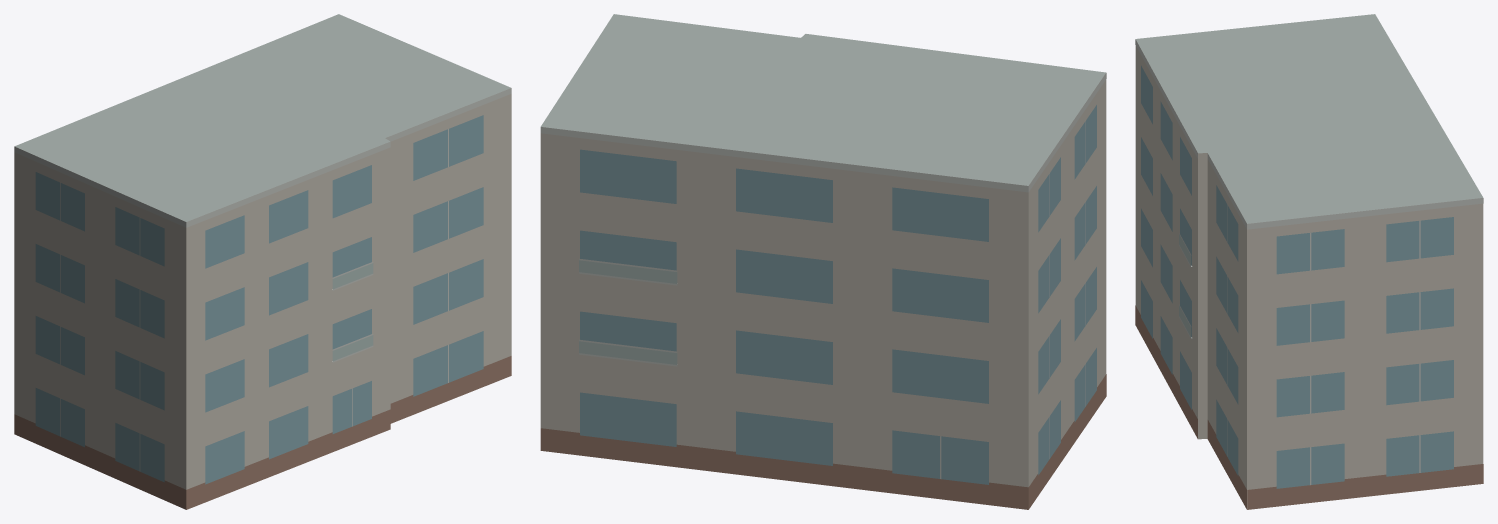
File: survey-upis-33014975.glb
3 views of the same model, side by side, from view 1: azimuth 30°, elevation 25°; view 2: azimuth 150°, elevation 25°; view 3: azimuth 270°, elevation 25° (orthographic). The views are drawn at different scales.
Visible parts, largest first — view 1: survey-upis-33014975.tmp; view 2: survey-upis-33014975.tmp; view 3: survey-upis-33014975.tmp.
Part boxes in pixels (x1=…): survey-upis-33014975.tmp: x1=14, y1=14, x2=511, y2=509; survey-upis-33014975.tmp: x1=540, y1=14, x2=1106, y2=509; survey-upis-33014975.tmp: x1=1135, y1=14, x2=1483, y2=509.
Bounding box in the file's own units: 19.22 × 12.2 × 13.47.
